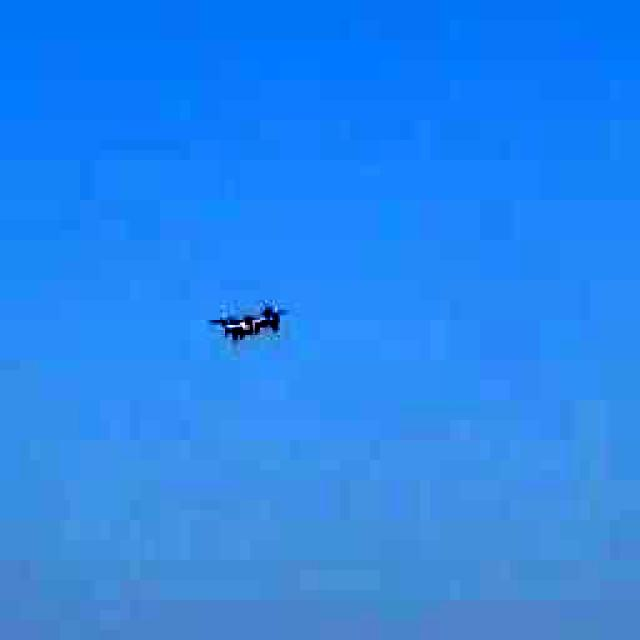bird: (206, 290, 299, 360)
